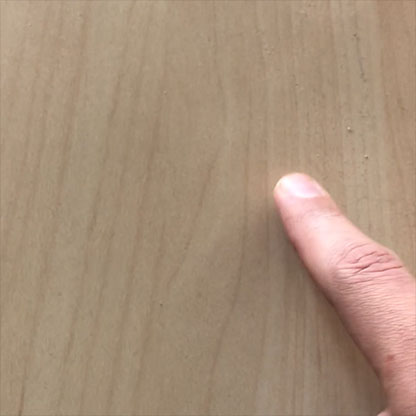fingertip: (261, 165, 336, 226)
